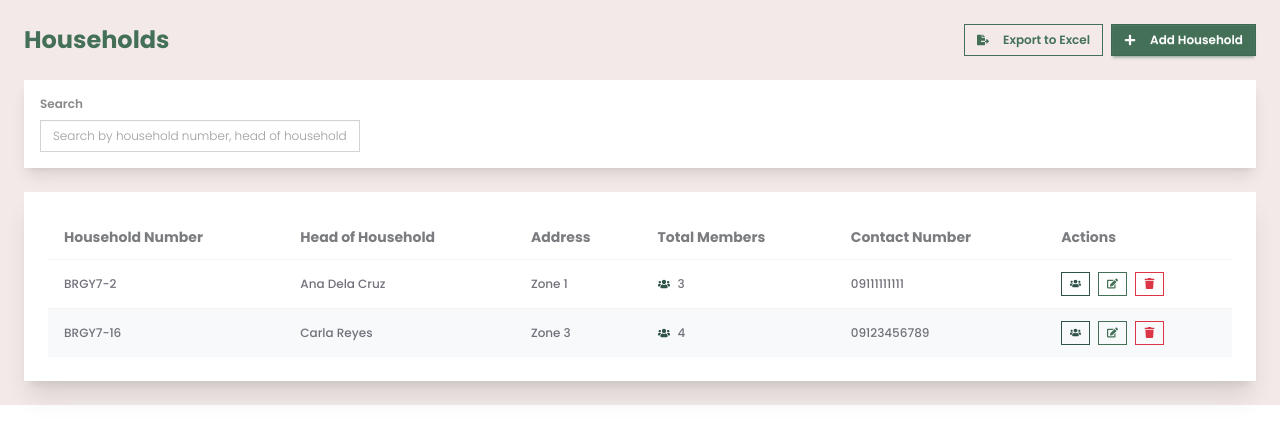
Scenario: Household page › renders households in numeric order and filters by search term
Expected: the text "BRGY7-2" is shown, [64, 275, 116, 292]
Expected: the text "BRGY7-16" is shown, [64, 324, 121, 341]
Type "Carla" into the field with placeholder "Search by household number" at [200, 136], box [40, 120, 360, 152]
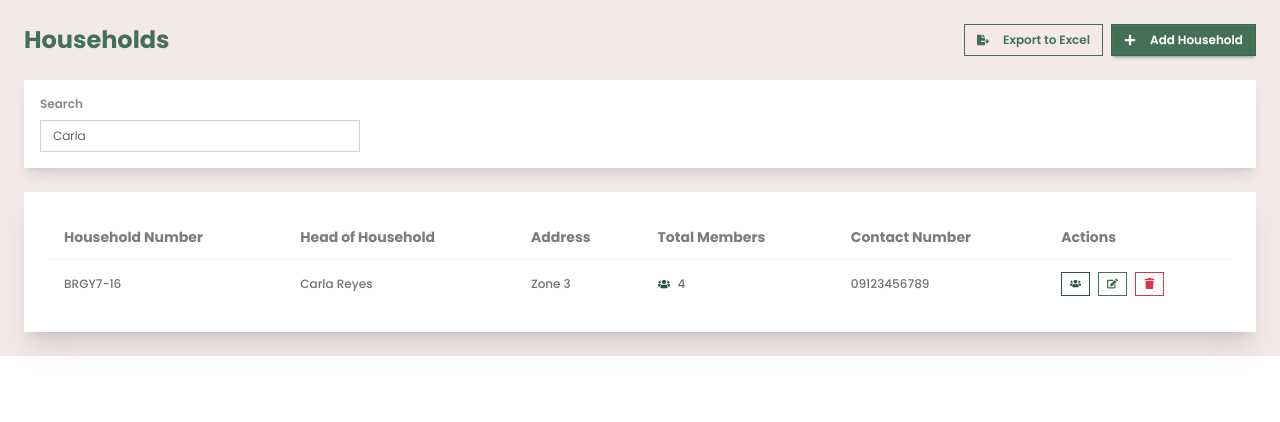
Expected: the text "BRGY7-16" is shown, [64, 275, 121, 292]
Expected: the text "BRGY7-2" is gone
